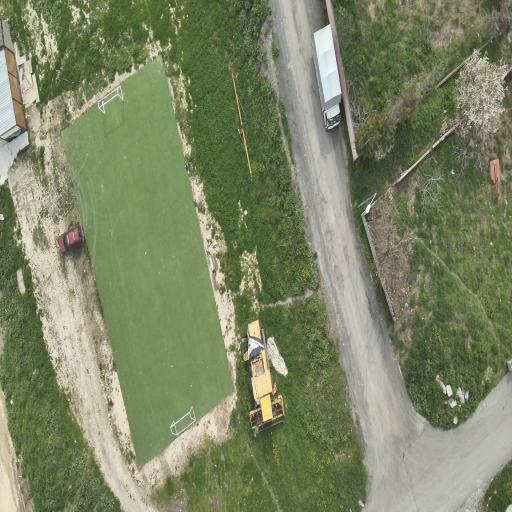car: (312, 25, 342, 130), (58, 224, 85, 254)
harvester: (244, 321, 284, 436)
